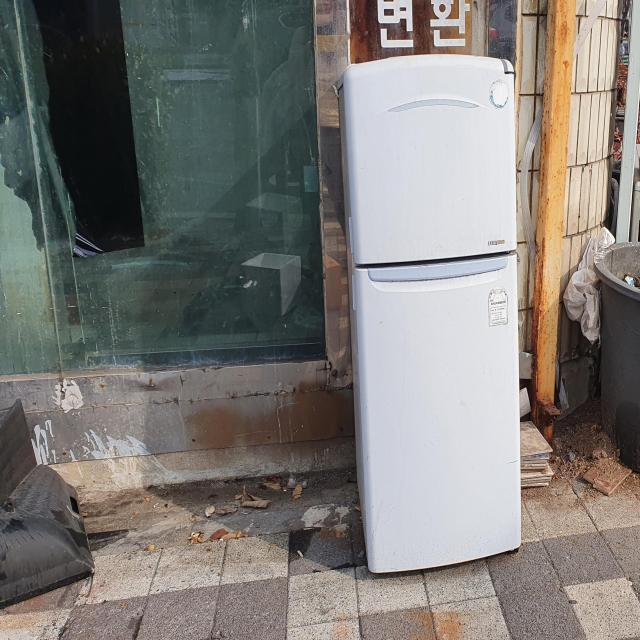refrigerator: (339, 55, 522, 578)
